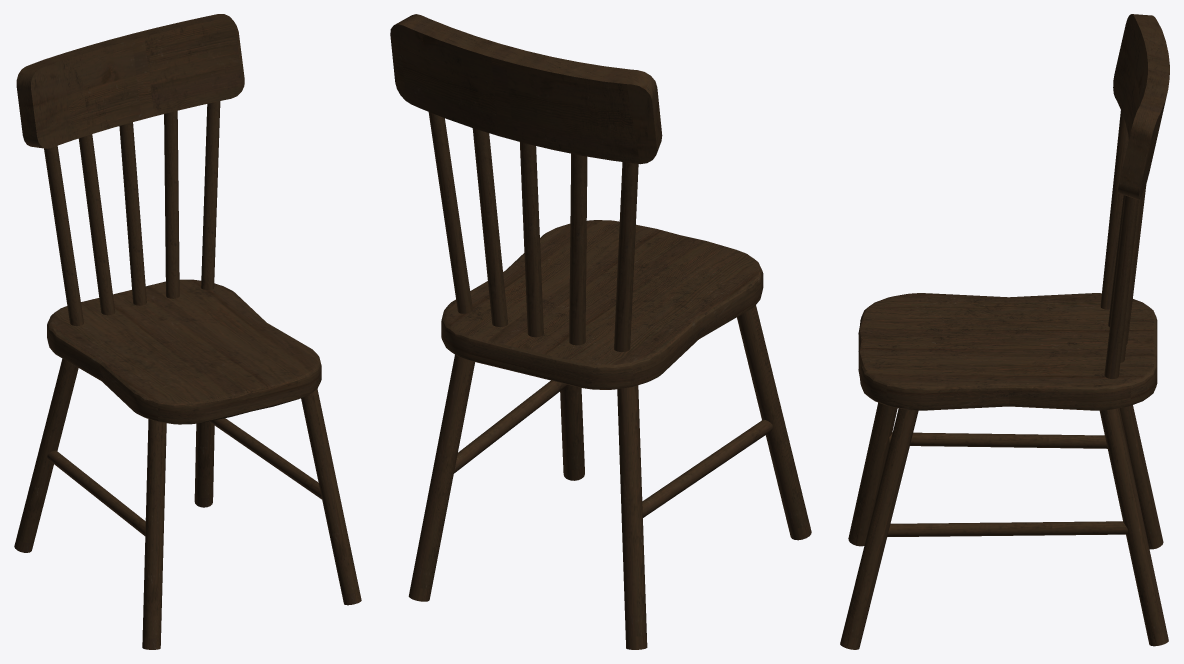
The model's file is wooden_chair.fbx.
3 views of the same model, side by side, from view 1: azimuth 30°, elevation 25°; view 2: azimuth 150°, elevation 25°; view 3: azimuth 270°, elevation 25° (orthographic). The views are drawn at different scales.
Parts seen in each view (by area): view 1: pCube2, pCube6, pCylinder3, pCylinder1, pCylinder4, pCylinder8, pCylinder6, pCylinder7, pCylinder5, pCylinder9, pCylinder11, pCylinder2 (+1 smaller); view 2: pCube2, pCube6, pCylinder4, pCylinder2, pCylinder3, pCylinder8, pCylinder7, pCylinder6, pCylinder5, pCylinder9, pCylinder10, pCylinder1 (+1 smaller); view 3: pCube2, pCube6, pCylinder1, pCylinder2, pCylinder11, pCylinder3, pCylinder10, pCylinder9, pCylinder4, pCylinder5, pCylinder8.
Boxes of the visible parts, x1=… form: pCube2: x1=47, y1=279, x2=321, y2=424; pCube6: x1=16, y1=14, x2=244, y2=148; pCylinder3: x1=142, y1=419, x2=166, y2=649; pCylinder1: x1=301, y1=389, x2=361, y2=605; pCylinder4: x1=14, y1=358, x2=78, y2=552; pCylinder8: x1=164, y1=110, x2=179, y2=298; pCylinder6: x1=78, y1=134, x2=115, y2=315; pCylinder7: x1=119, y1=122, x2=146, y2=305; pCylinder5: x1=44, y1=145, x2=83, y2=325; pCylinder9: x1=201, y1=101, x2=220, y2=289; pCylinder11: x1=209, y1=418, x2=321, y2=499; pCylinder2: x1=194, y1=421, x2=214, y2=507; pCube2: x1=441, y1=220, x2=763, y2=389; pCube6: x1=390, y1=14, x2=662, y2=164; pCylinder4: x1=617, y1=385, x2=647, y2=649; pCylinder2: x1=408, y1=355, x2=474, y2=601; pCylinder3: x1=737, y1=305, x2=811, y2=540; pCylinder8: x1=472, y1=128, x2=508, y2=326; pCylinder7: x1=520, y1=142, x2=543, y2=337; pCylinder6: x1=569, y1=153, x2=587, y2=345; pCylinder5: x1=614, y1=162, x2=638, y2=351; pCylinder9: x1=428, y1=112, x2=472, y2=313; pCylinder10: x1=642, y1=419, x2=772, y2=517; pCylinder1: x1=560, y1=385, x2=584, y2=480; pCube2: x1=858, y1=293, x2=1157, y2=410; pCube6: x1=1113, y1=14, x2=1169, y2=199; pCylinder1: x1=840, y1=408, x2=918, y2=649; pCylinder2: x1=1099, y1=408, x2=1168, y2=646; pCylinder11: x1=887, y1=521, x2=1127, y2=536; pCylinder3: x1=848, y1=402, x2=897, y2=546; pCylinder10: x1=889, y1=432, x2=1107, y2=448; pCylinder9: x1=1104, y1=195, x2=1138, y2=378; pCylinder4: x1=1119, y1=405, x2=1163, y2=549; pCylinder5: x1=1100, y1=110, x2=1128, y2=309; pCylinder8: x1=1120, y1=192, x2=1143, y2=362.
Bounding box in the file's own units: 7.93 × 16.43 × 9.12.
1 material, 1 textured.
